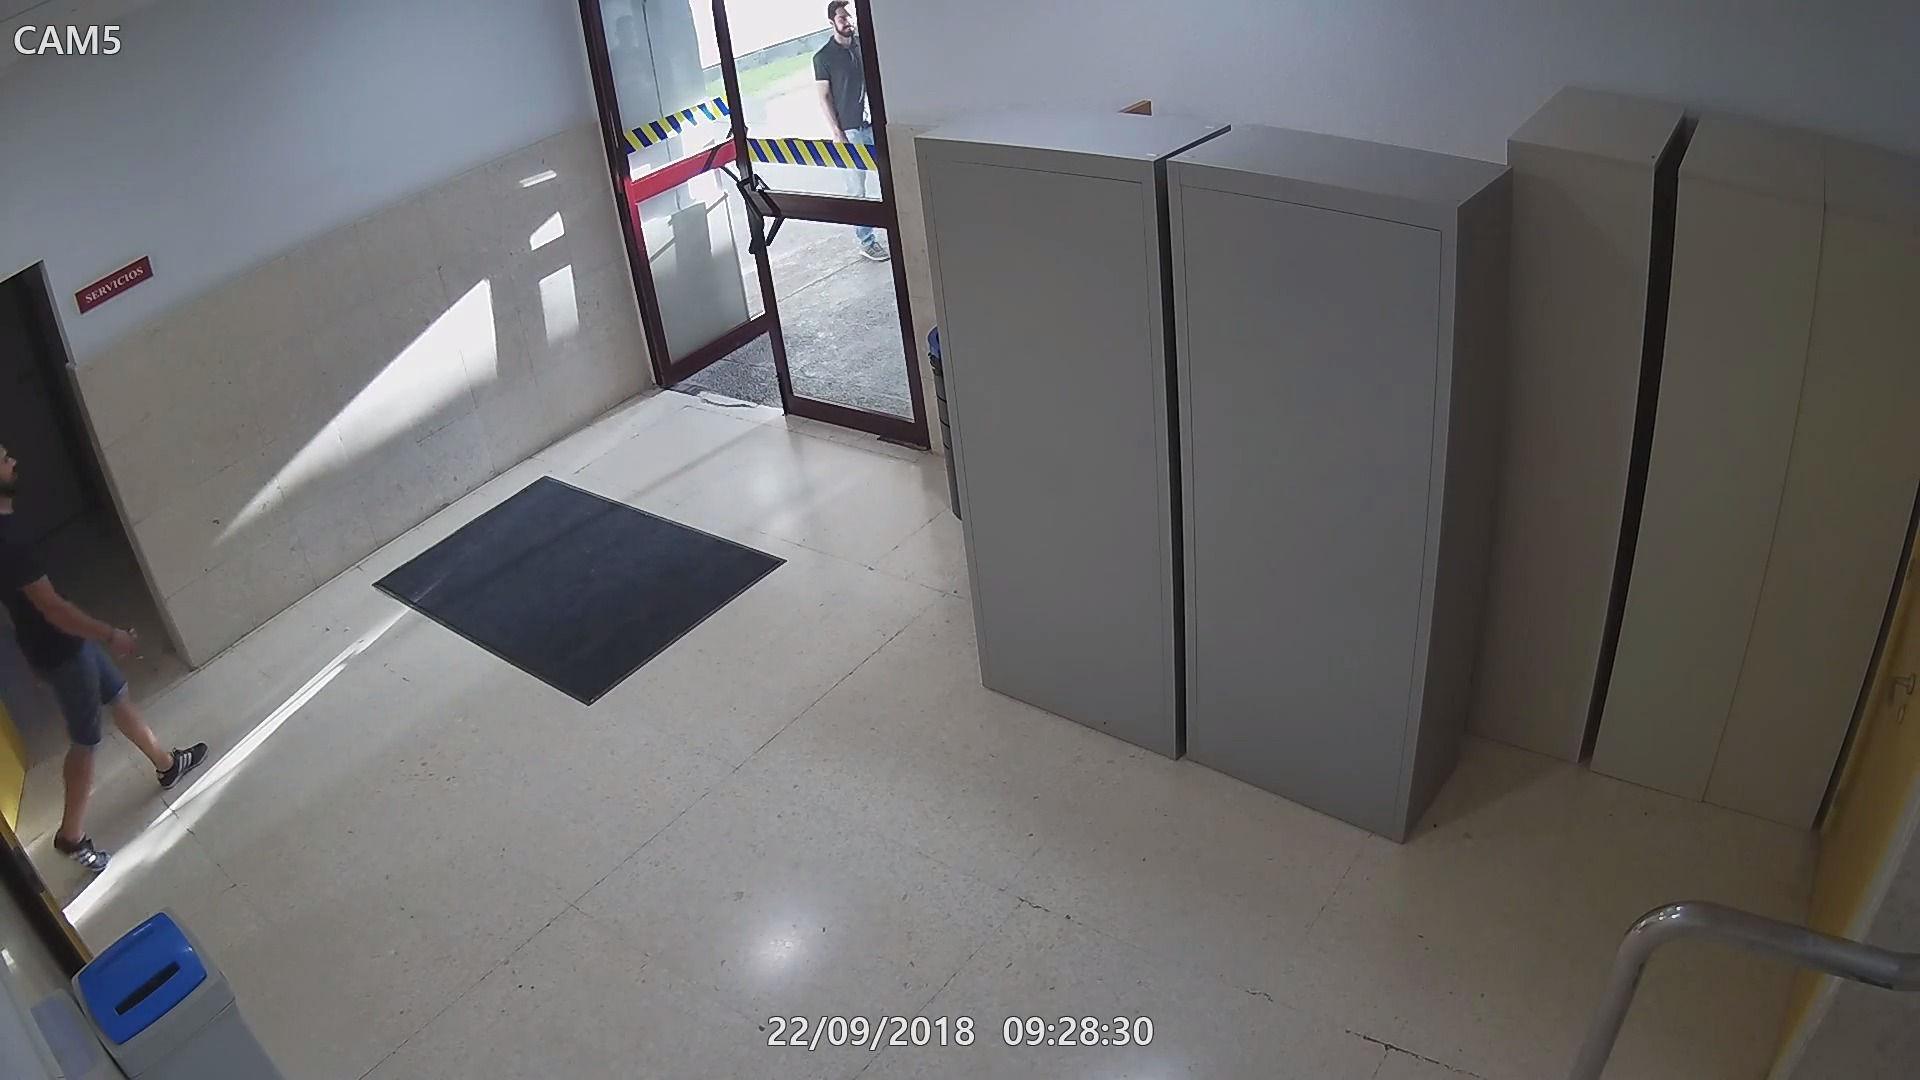Handgun: (105, 622, 156, 673)
